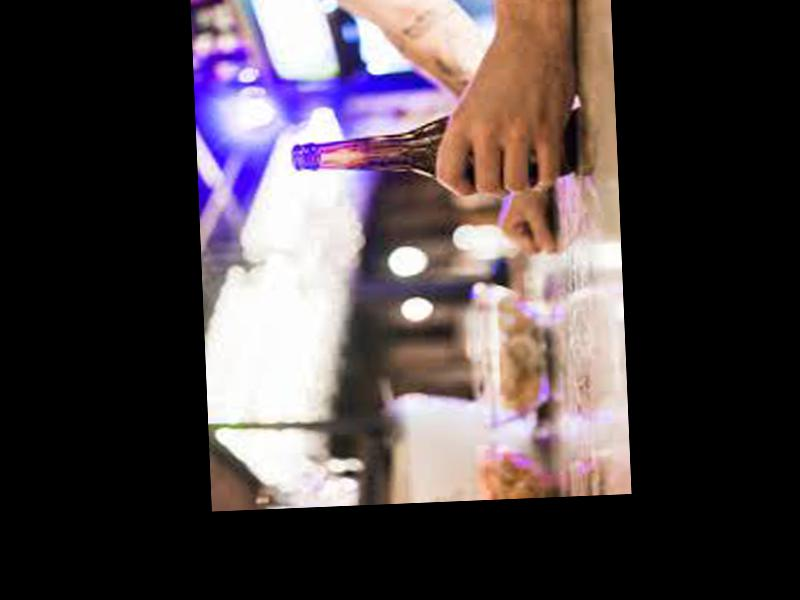Beer: (290, 111, 577, 186)
